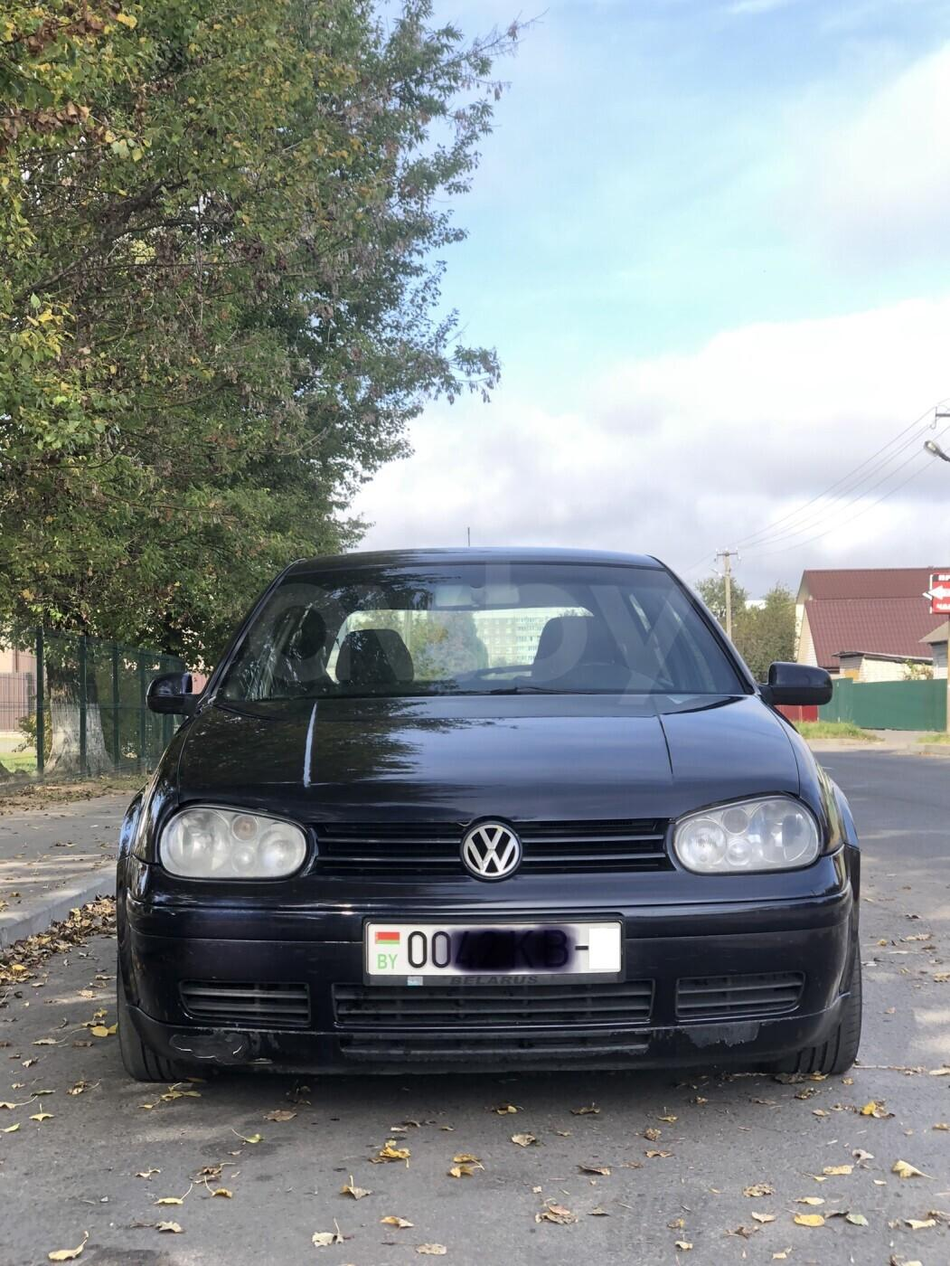Golf_1997-2006: (111, 539, 872, 1094)
